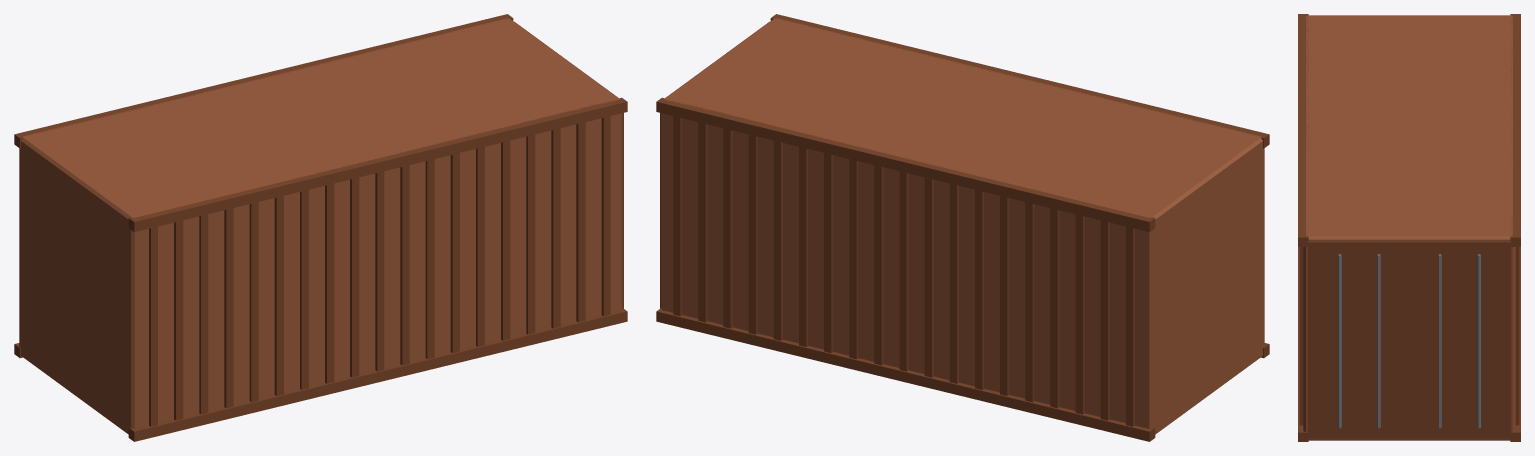
File: shipping_container_rust.glb
3 views of the same model, side by side, from view 1: azimuth 30°, elevation 25°; view 2: azimuth 150°, elevation 25°; view 3: azimuth 270°, elevation 25° (orthographic). The views are drawn at different scales.
Visible parts, largest first — view 1: shipping_container_rust; view 2: shipping_container_rust; view 3: shipping_container_rust.
Boxes of the visible parts, <box> form: shipping_container_rust: <box>14,14,627,441</box>; shipping_container_rust: <box>656,14,1269,441</box>; shipping_container_rust: <box>1298,14,1520,441</box>.
Bounding box in the file's own units: 6.14 × 2.59 × 2.56.
